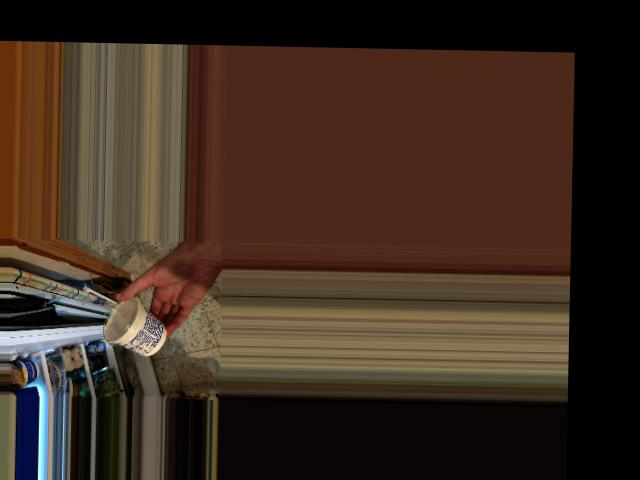cotage: (102, 292, 162, 354)
